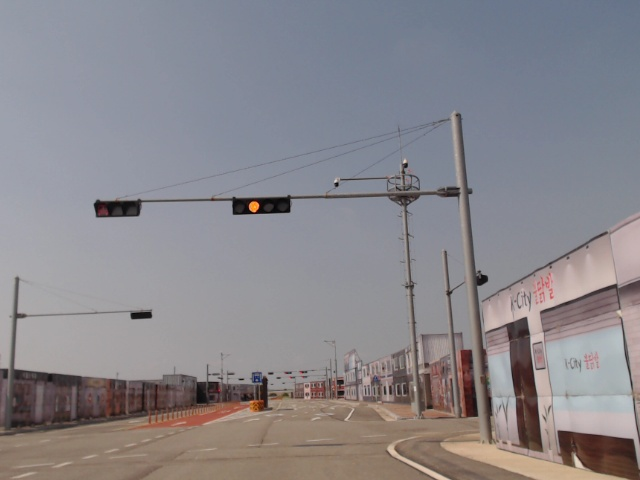orange_4: (231, 196, 292, 216)
